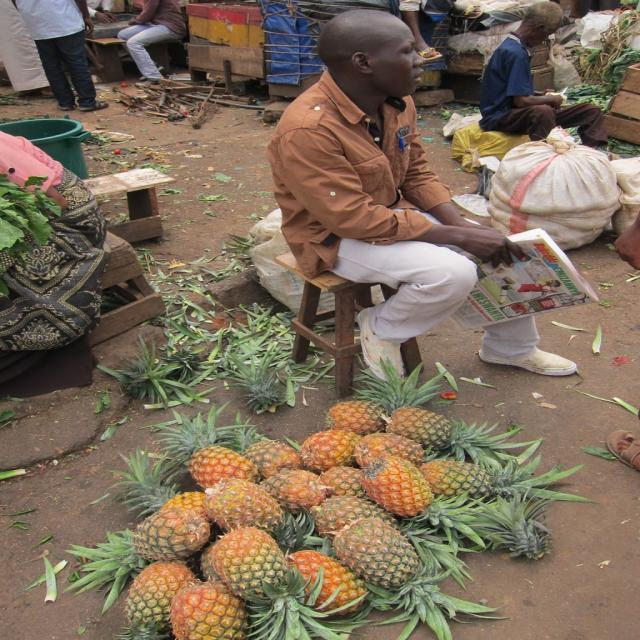Pineapple: (70, 352, 606, 640)
